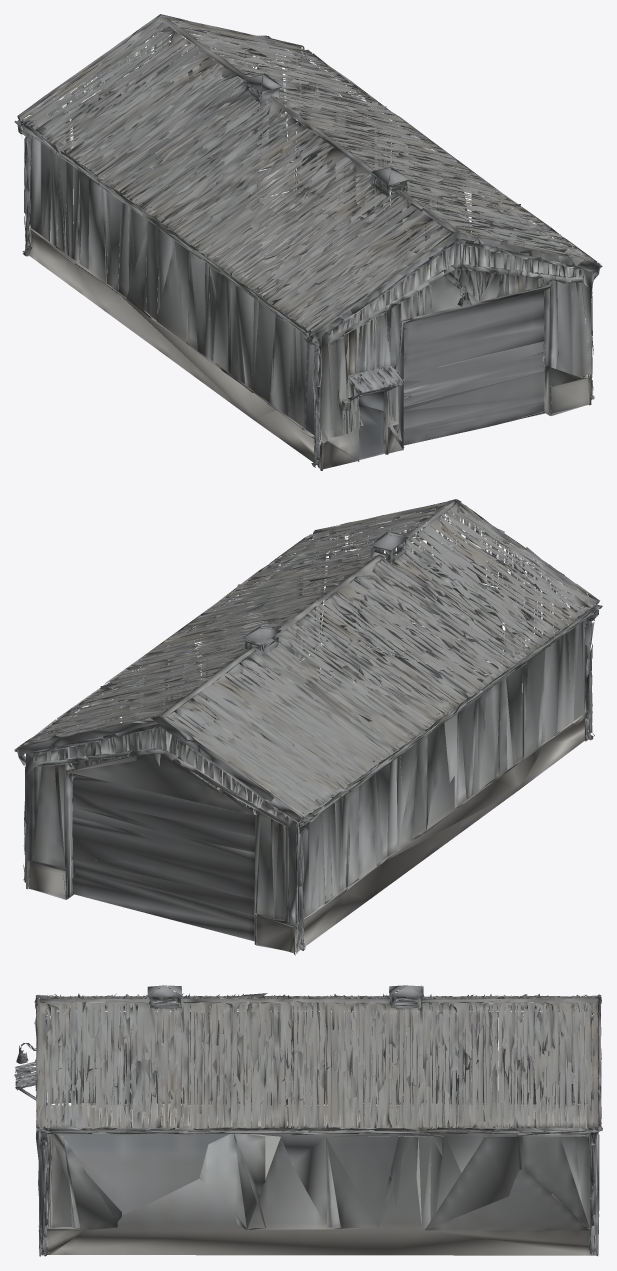
The model's file is shed.glb.
The picture shows the model from 3 angles, top to bottom: view 1: azimuth 30°, elevation 25°; view 2: azimuth 150°, elevation 25°; view 3: azimuth 270°, elevation 25°; orthographic projection. The views are drawn at different scales.
Visible parts, largest first — view 1: LO.001; view 2: LO.001; view 3: LO.001.
Boxes of the visible parts, x1,y1,x2,y2 form: LO.001: (14, 14, 602, 470); LO.001: (14, 499, 602, 955); LO.001: (14, 985, 602, 1256).
Size of the model in its own units: 11.09 by 7.89 by 20.04.
Materials: 1 (1 with a texture image).
